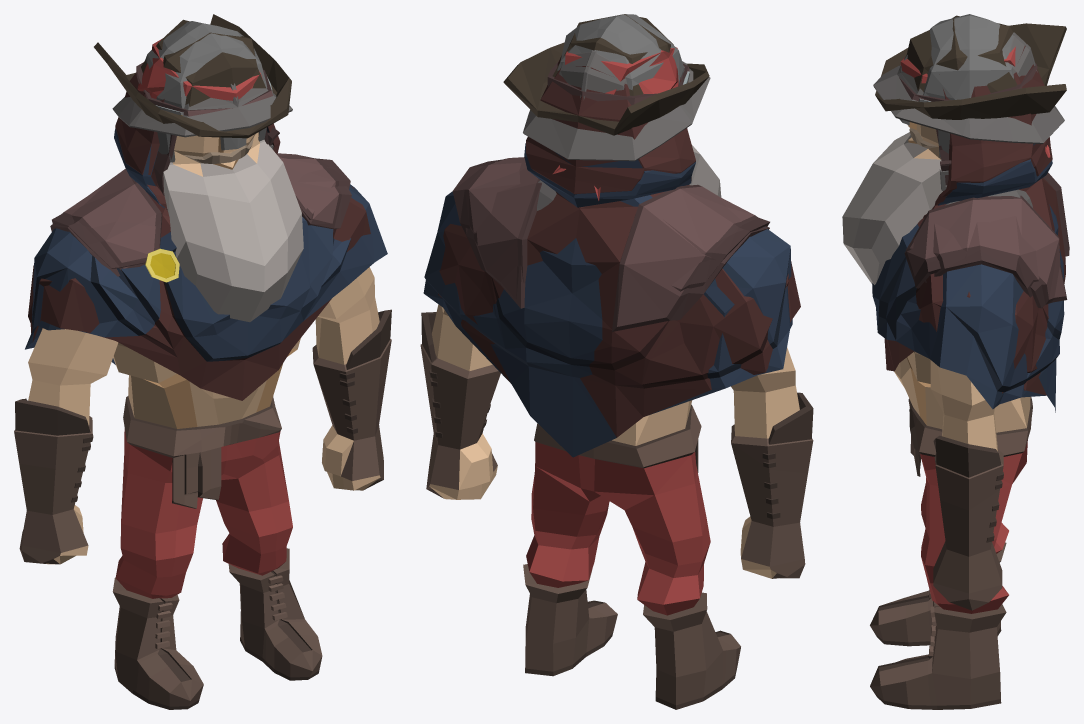
Rendered from HATS_Warrior_male.fbx.
3 renders of one model, left to right at view 1: azimuth 30°, elevation 25°; view 2: azimuth 150°, elevation 25°; view 3: azimuth 270°, elevation 25°, orthographic. The views are drawn at different scales.
Visible parts, largest first — view 1: warrior_02a_hats:warrior_male, warrior_02a_hats:shall2, warrior_02a_hats:shall1, warrior_02a_hats:huntershat, warrior_02a_hats:chainhelm, warrior_02a_hats:pothelm, warrior_02a_hats:bandana; view 2: warrior_02a_hats:warrior_male, warrior_02a_hats:shall1, warrior_02a_hats:shall2, warrior_02a_hats:huntershat, warrior_02a_hats:pothelm, warrior_02a_hats:chainhelm, warrior_02a_hats:bandana; view 3: warrior_02a_hats:warrior_male, warrior_02a_hats:shall2, warrior_02a_hats:shall1, warrior_02a_hats:huntershat, warrior_02a_hats:chainhelm, warrior_02a_hats:pothelm, warrior_02a_hats:bandana.
Part boxes in pixels (bbox=[...]): warrior_02a_hats:warrior_male: bbox=[14, 132, 391, 709]; warrior_02a_hats:shall2: bbox=[25, 127, 387, 364]; warrior_02a_hats:shall1: bbox=[28, 61, 370, 400]; warrior_02a_hats:huntershat: bbox=[94, 14, 291, 138]; warrior_02a_hats:chainhelm: bbox=[144, 21, 272, 162]; warrior_02a_hats:pothelm: bbox=[112, 83, 292, 195]; warrior_02a_hats:bandana: bbox=[137, 39, 262, 100]; warrior_02a_hats:warrior_male: bbox=[420, 145, 813, 709]; warrior_02a_hats:shall1: bbox=[438, 55, 800, 437]; warrior_02a_hats:shall2: bbox=[423, 143, 792, 457]; warrior_02a_hats:huntershat: bbox=[503, 14, 709, 135]; warrior_02a_hats:pothelm: bbox=[523, 50, 710, 161]; warrior_02a_hats:chainhelm: bbox=[537, 14, 689, 210]; warrior_02a_hats:bandana: bbox=[553, 47, 678, 200]; warrior_02a_hats:warrior_male: bbox=[842, 122, 1032, 709]; warrior_02a_hats:shall2: bbox=[872, 143, 1067, 412]; warrior_02a_hats:shall1: bbox=[884, 45, 1069, 395]; warrior_02a_hats:huntershat: bbox=[875, 15, 1066, 119]; warrior_02a_hats:chainhelm: bbox=[899, 14, 1032, 207]; warrior_02a_hats:pothelm: bbox=[873, 32, 1064, 191]; warrior_02a_hats:bandana: bbox=[900, 46, 1050, 157].
Bounding box in the file's own units: 568 × 917 × 290.
